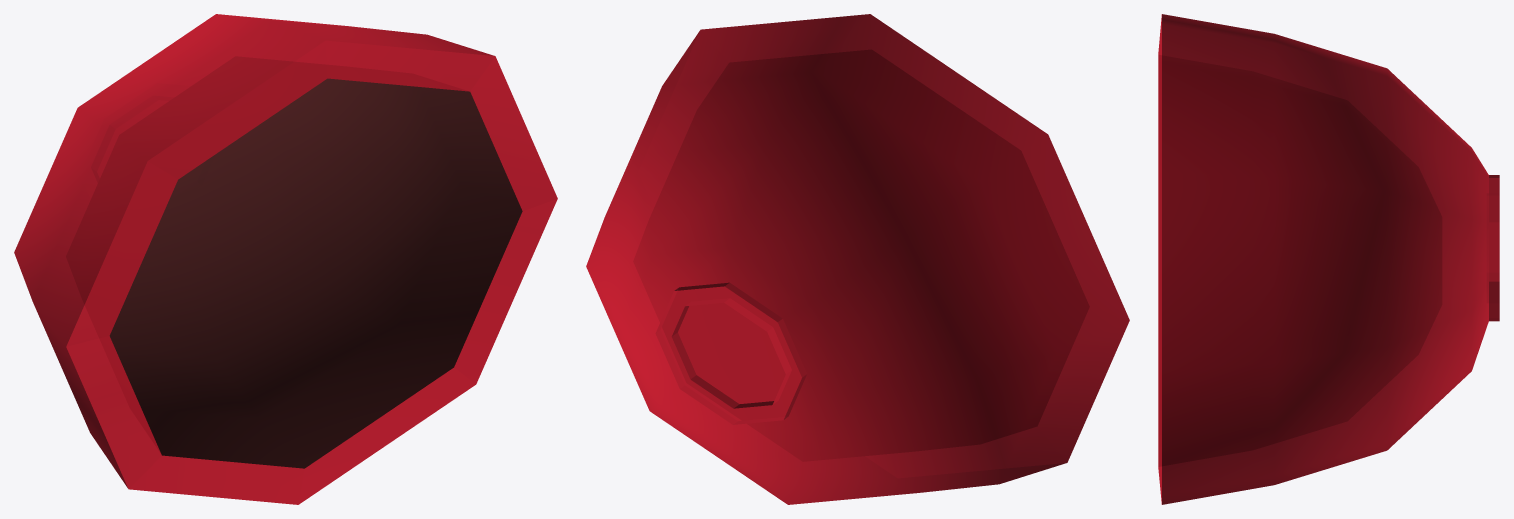
File: model_align.obj
3 views of the same model, side by side, from view 1: azimuth 30°, elevation 25°; view 2: azimuth 150°, elevation 25°; view 3: azimuth 270°, elevation 25° (orthographic). The views are drawn at different scales.
Visible parts, largest first — view 1: mesh1_mesh1-geometry, mesh2_mesh2-geometry; view 2: mesh2_mesh2-geometry, mesh1_mesh1-geometry; view 3: mesh2_mesh2-geometry, mesh1_mesh1-geometry.
Part boxes in pixels (bbox=[...]): mesh1_mesh1-geometry: bbox=[66, 57, 522, 468]; mesh2_mesh2-geometry: bbox=[14, 14, 557, 504]; mesh2_mesh2-geometry: bbox=[586, 14, 1129, 504]; mesh1_mesh1-geometry: bbox=[634, 50, 1088, 460]; mesh2_mesh2-geometry: bbox=[1158, 14, 1499, 504]; mesh1_mesh1-geometry: bbox=[1159, 55, 1441, 465].
Bounding box in the file's own units: 0.1585 × 0.141 × 0.0901.
